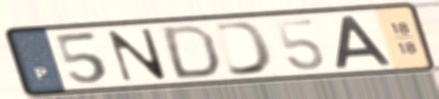5: (52, 29, 111, 86), (271, 16, 327, 71)
A: (334, 13, 395, 70)
D: (210, 19, 276, 78), (160, 22, 222, 81)
N: (104, 26, 170, 84)
